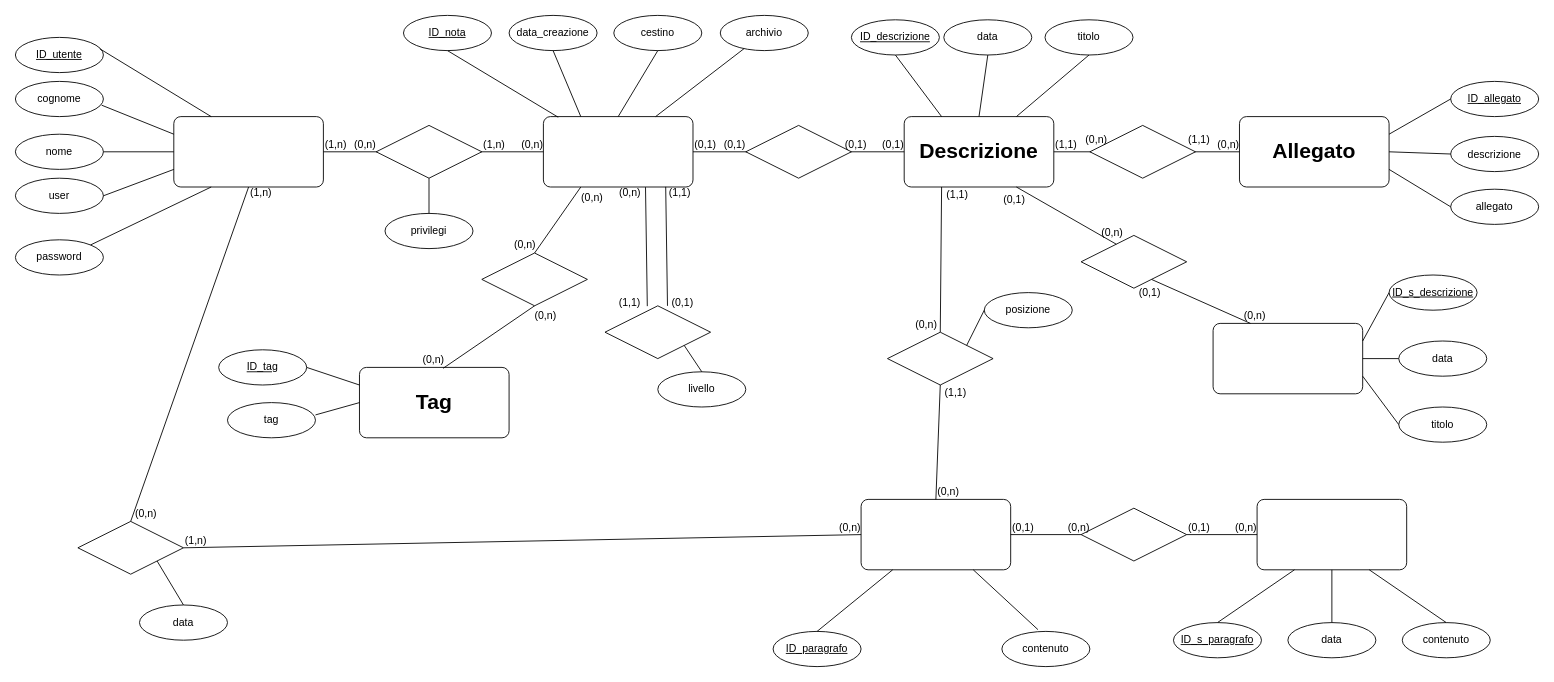
Image size: 1554x682. Some labels were removed from this diagram. Each missing label, with the box of its shape:
Cataloga: (481, 252, 587, 306)
Compone: (887, 331, 993, 385)
Contiene: (1089, 125, 1195, 178)
Gestisce: (375, 125, 482, 178)
Modifica: (77, 521, 183, 574)
Nota: (543, 116, 693, 187)
Paragrafo: (860, 499, 1011, 570)
Possiede: (745, 125, 851, 178)
Revisioni: (1080, 507, 1187, 561)
Sottonota: (604, 305, 711, 359)
Storico: (1080, 235, 1187, 288)
Storico_Descrizioni: (1212, 323, 1363, 394)
Storico_Paragrafi: (1256, 499, 1407, 570)
Utente: (173, 116, 323, 187)
